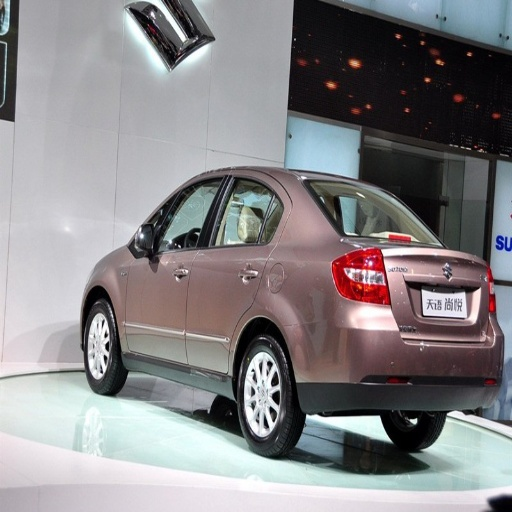back_bumper: (292, 298, 507, 414)
back_glass: (305, 180, 432, 244)
back_left_door: (186, 174, 282, 374)
